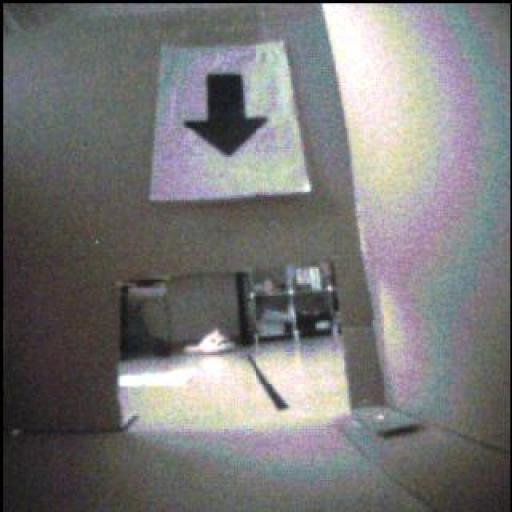arrow: (185, 75, 268, 156)
